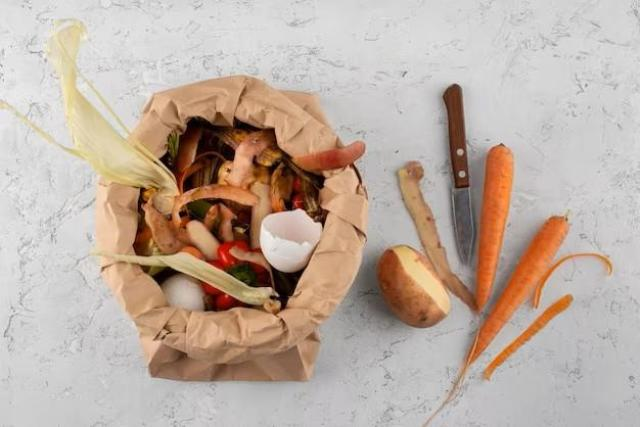Garbage: (115, 116, 361, 316)
